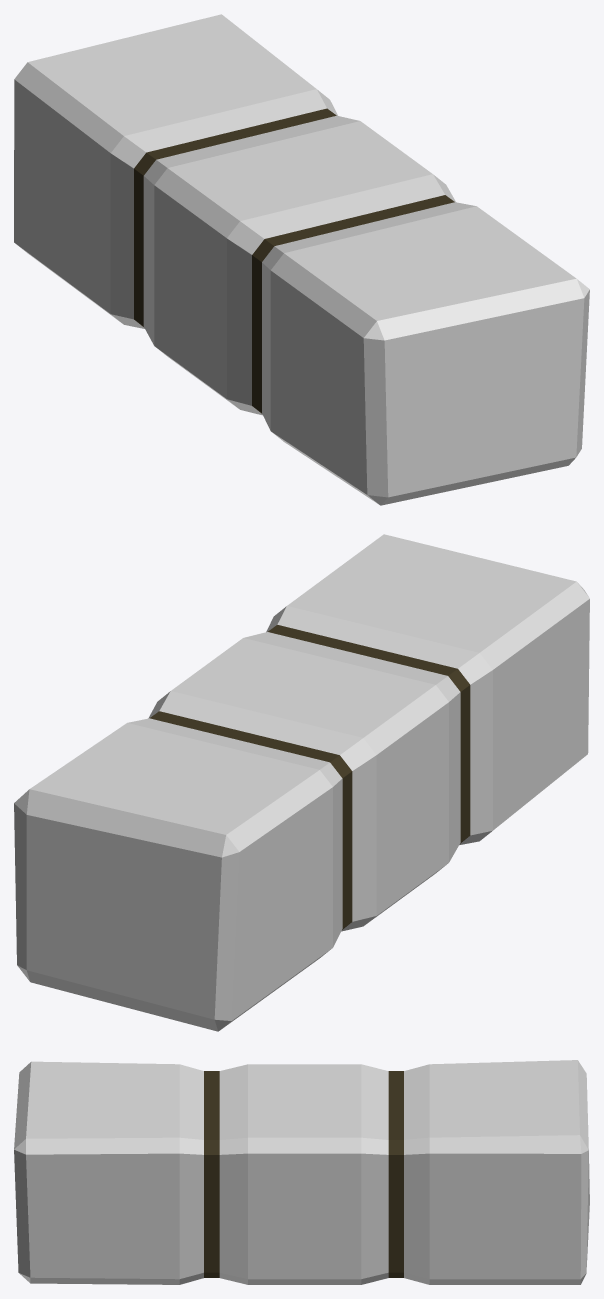
Rendered from HAY.fbx.
3 views of the same model, one above another, from view 1: azimuth 30°, elevation 25°; view 2: azimuth 150°, elevation 25°; view 3: azimuth 270°, elevation 25° (orthographic). The views are drawn at different scales.
Parts seen in each view (by area): view 1: Cube.001; view 2: Cube.001; view 3: Cube.001.
Boxes of the visible parts, bbox=[...] form: Cube.001: bbox=[14, 14, 589, 505]; Cube.001: bbox=[14, 534, 589, 1031]; Cube.001: bbox=[14, 1060, 589, 1284].
Size of the model in its own units: 64.71 by 53.77 by 185.
